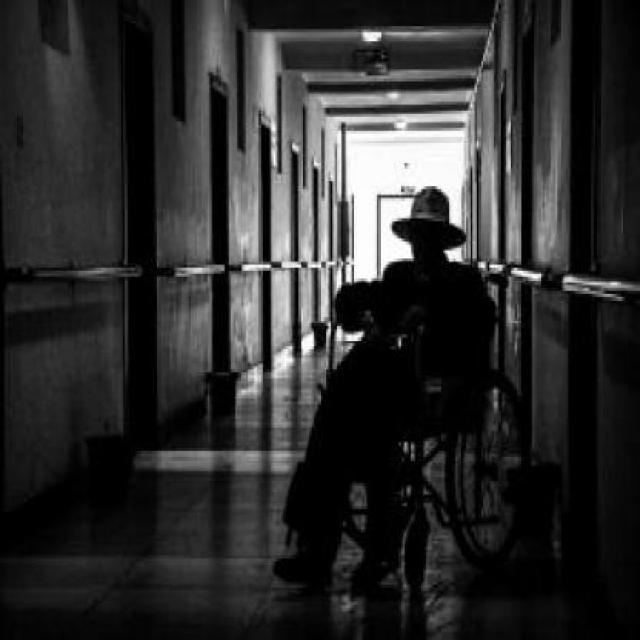peopleWithWheelchair: (288, 183, 534, 617)
